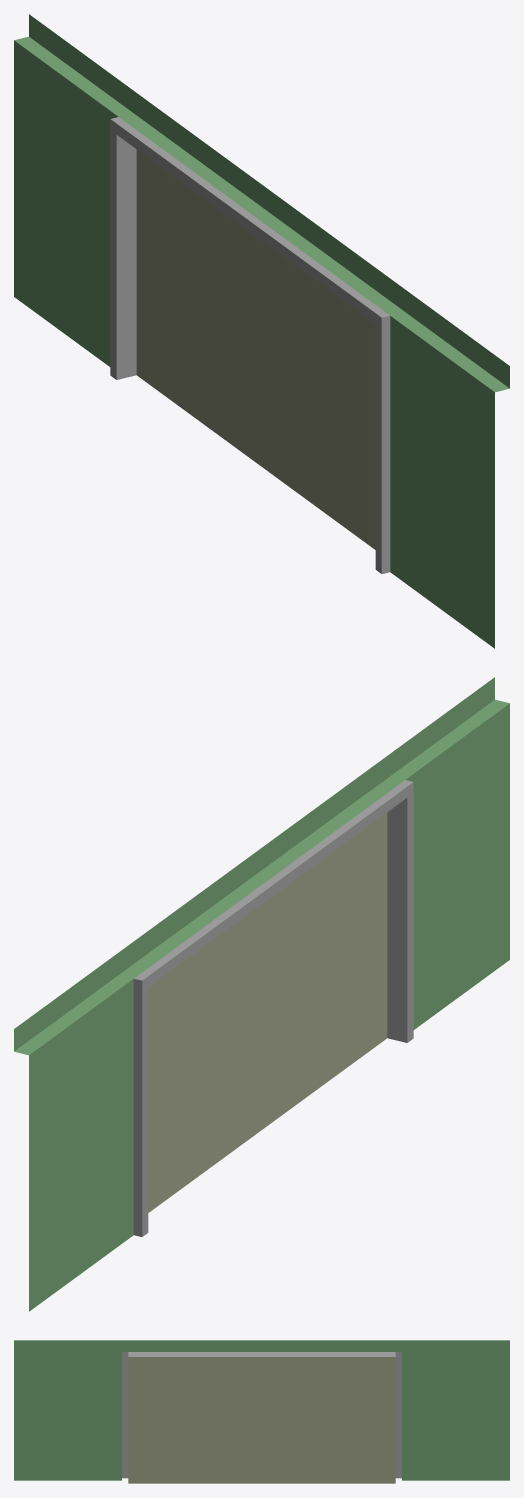
The model's file is WarehouseDoorway.fbx.
The picture shows the model from 3 angles, top to bottom: view 1: azimuth 30°, elevation 25°; view 2: azimuth 150°, elevation 25°; view 3: azimuth 270°, elevation 25°; orthographic projection. The views are drawn at different scales.
Visible parts, largest first — view 1: pPlane7; view 2: pPlane7; view 3: pPlane7.
Part boxes in pixels (x1,y1,x2,y2): pPlane7: (14,14,509,648); pPlane7: (14,677,509,1311); pPlane7: (14,1340,509,1483).
Bounding box in the file's own units: 0.7927 × 9.03 × 28.21.
